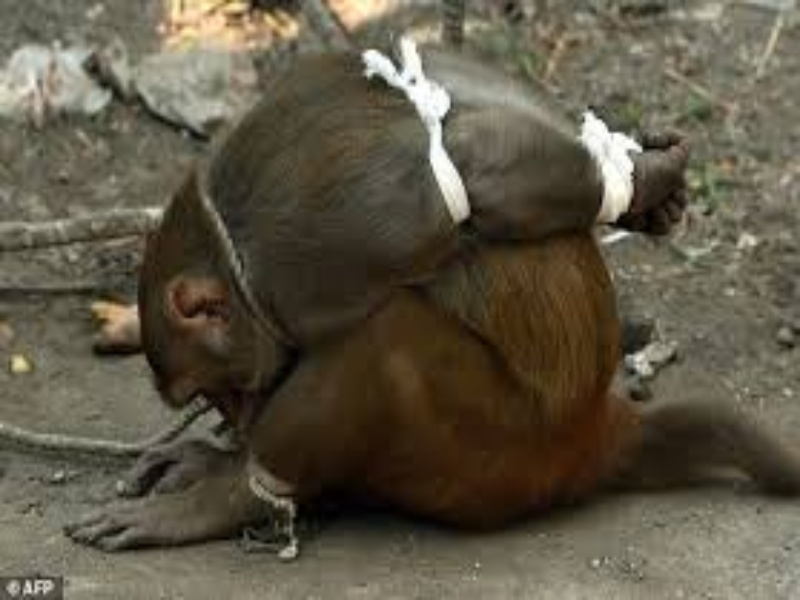monkey: (68, 50, 766, 573)
